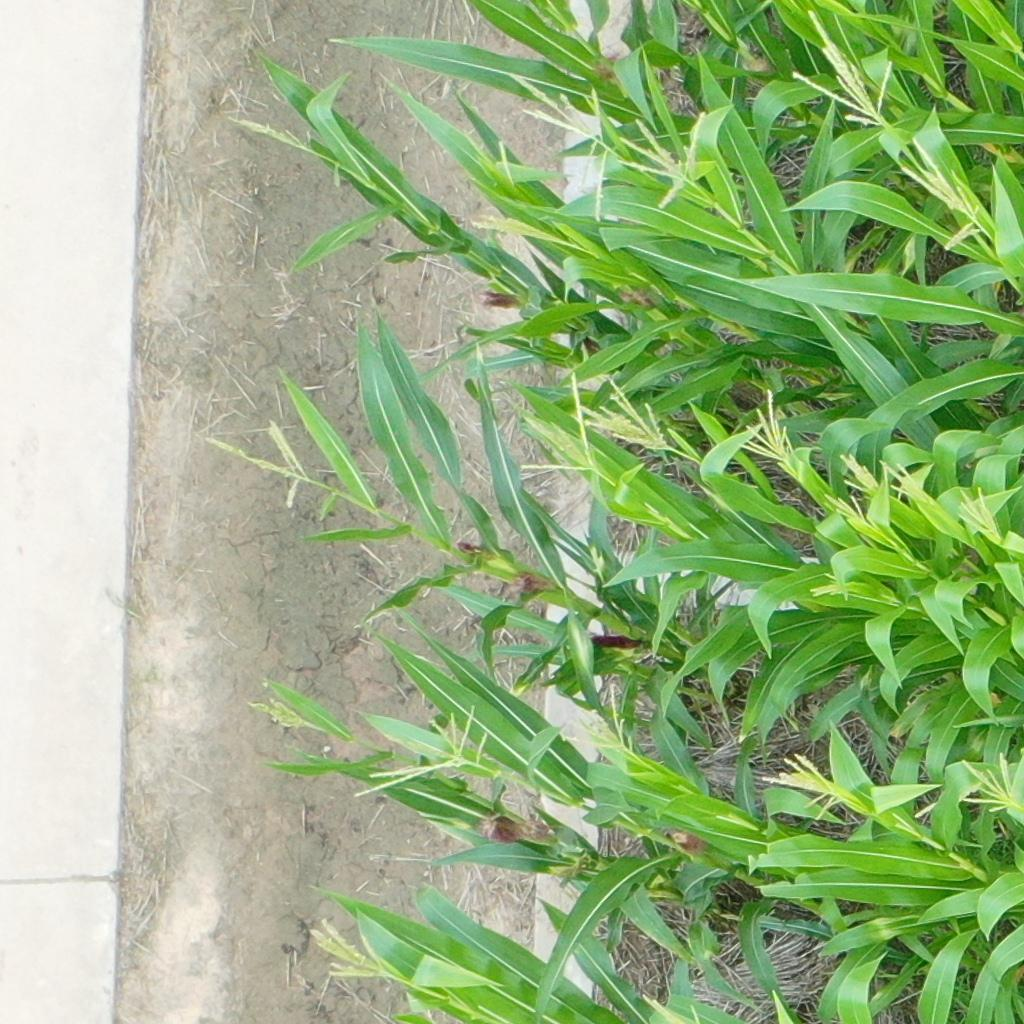Tassel: (785, 2, 902, 130), (349, 703, 497, 804), (205, 416, 320, 509), (891, 134, 982, 248), (507, 368, 602, 477), (611, 107, 709, 207), (510, 72, 610, 147), (553, 679, 641, 759), (578, 376, 670, 451), (756, 748, 846, 821), (731, 385, 800, 473), (215, 104, 322, 160), (304, 917, 390, 982), (463, 211, 577, 254), (953, 748, 1024, 814), (458, 130, 519, 192), (952, 481, 1009, 544), (247, 688, 317, 733), (881, 454, 929, 504), (825, 489, 876, 533), (837, 447, 880, 495), (810, 566, 861, 603)
